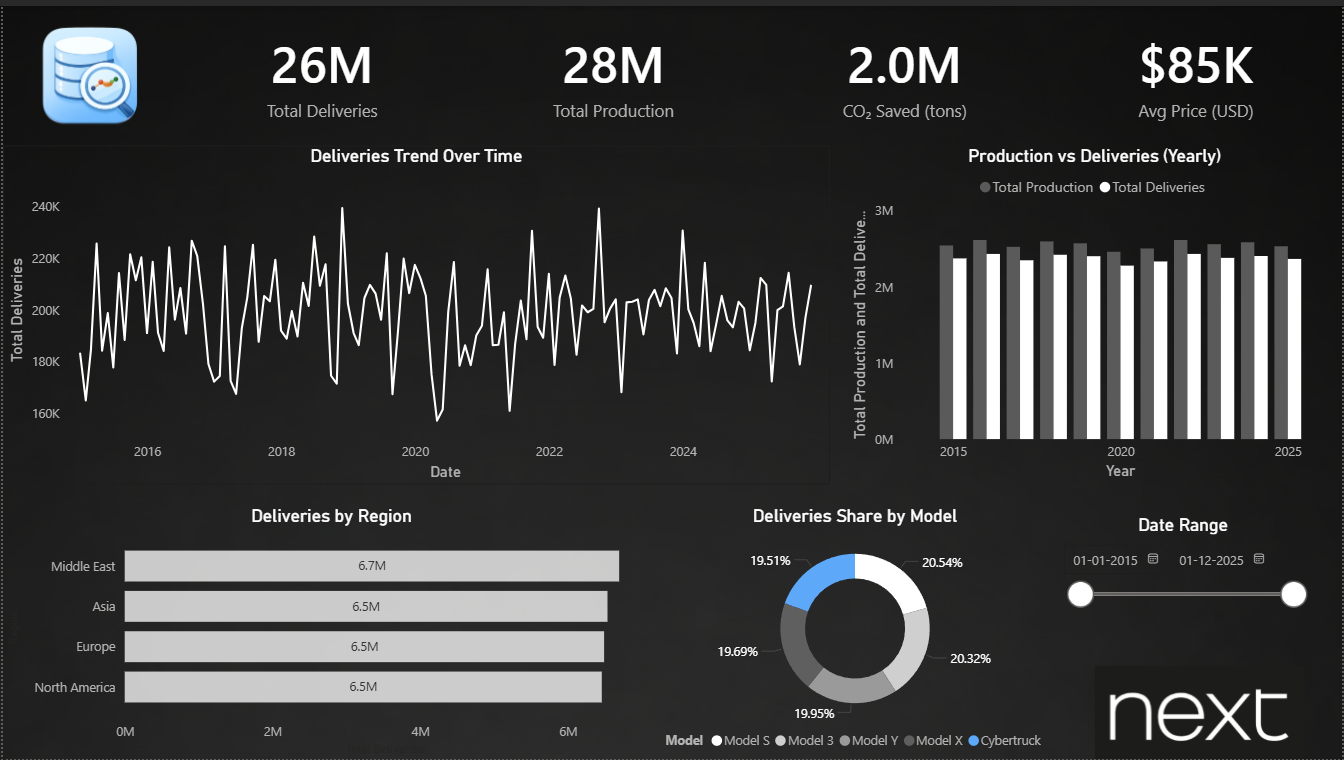

What the dashboard file says about the page in this screenshot:
{"tool":"powerbi","page":{"name":"DashBoard1","canvas":[1280,720],"ordinal":1},"visuals":[{"type":"cardVisual","fields":{"Data":["Measure.Total Deliveries"]},"box":[166.3,0,278.5,133.3],"z":0},{"type":"cardVisual","fields":{"Data":["Measure.Total CO2 Saved"]},"box":[723.3,0,278.5,133.3],"z":1000},{"type":"cardVisual","fields":{"Data":["Measure.Total Production"]},"box":[444.8,0,278.5,133.3],"z":2000},{"type":"cardVisual","fields":{"Data":["Measure.Average Price"]},"box":[1001.7,0,278.5,133.3],"z":3000},{"type":"lineChart","title":"Deliveries Trend Over Time","fields":{"Y":["Measure.Total Deliveries"],"Category":["Dim_Date.Date"]},"box":[0,133.3,790.6,324.7],"z":4000},{"type":"clusteredColumnChart","title":"Production vs Deliveries (Yearly)","fields":{"Category":["Dim_Date.Year"],"Y":["Measure.Total Production","Measure.Total Deliveries"]},"box":[806,133.7,474.5,324.8],"z":5000},{"type":"actionButton","box":[0,0,166.3,133.3],"z":6000},{"type":"slicer","title":"Date Range","fields":{"Values":["Dim_Date.Date"]},"box":[1001.7,485.7,253.4,113.5],"z":7000},{"type":"barChart","title":"Deliveries by Region","fields":{"Category":["Dim_Product.Region"],"Y":["Measure.Total Deliveries"]},"box":[0,477.2,628.2,243.3],"z":8000},{"type":"donutChart","title":"Deliveries Share by Model","fields":{"Category":["Dim_Product.Model"],"Y":["Measure.Total Deliveries"]},"box":[628.2,477.2,372.9,243.3],"z":9000},{"type":"actionButton","box":[1014.9,578.1,257.4,142.5],"z":10000}]}

Visuals, with their boxes in screenshot pixels (x1, y1, x2, y2), scaled from the page's 1280x720 canvas onto the 1344x760 screenshot:
cardVisual - Measure.Total Deliveries: left=175, top=0, right=467, bottom=141
cardVisual - Measure.Total CO2 Saved: left=759, top=0, right=1052, bottom=141
cardVisual - Measure.Total Production: left=467, top=0, right=759, bottom=141
cardVisual - Measure.Average Price: left=1052, top=0, right=1343, bottom=141
"Deliveries Trend Over Time" lineChart: left=0, top=141, right=830, bottom=483
"Production vs Deliveries (Yearly)" clusteredColumnChart: left=846, top=141, right=1343, bottom=484
actionButton: left=0, top=0, right=175, bottom=141
"Date Range" slicer: left=1052, top=513, right=1318, bottom=632
"Deliveries by Region" barChart: left=0, top=504, right=660, bottom=759
"Deliveries Share by Model" donutChart: left=660, top=504, right=1051, bottom=759
actionButton: left=1066, top=610, right=1336, bottom=759
